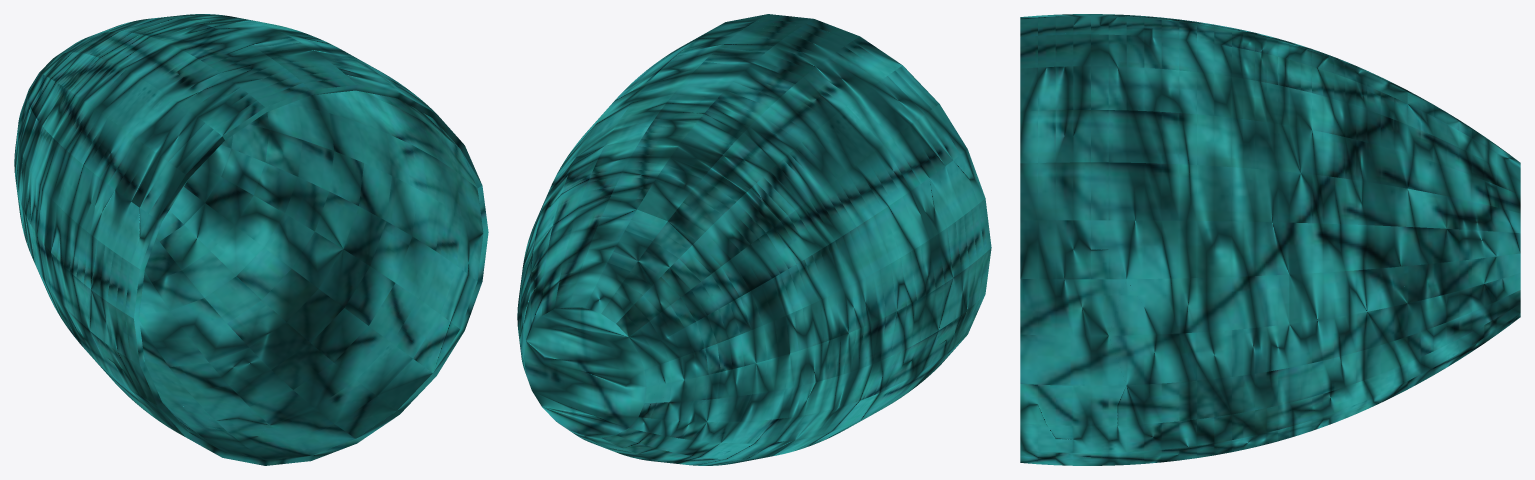
Rendered from model_align.obj.
3 renders of one model, left to right at view 1: azimuth 30°, elevation 25°; view 2: azimuth 150°, elevation 25°; view 3: azimuth 270°, elevation 25°, orthographic. The views are drawn at different scales.
Size of the model in its own units: 0.0791 by 0.0791 by 0.0872.
Materials: 1 (1 with a texture image).
